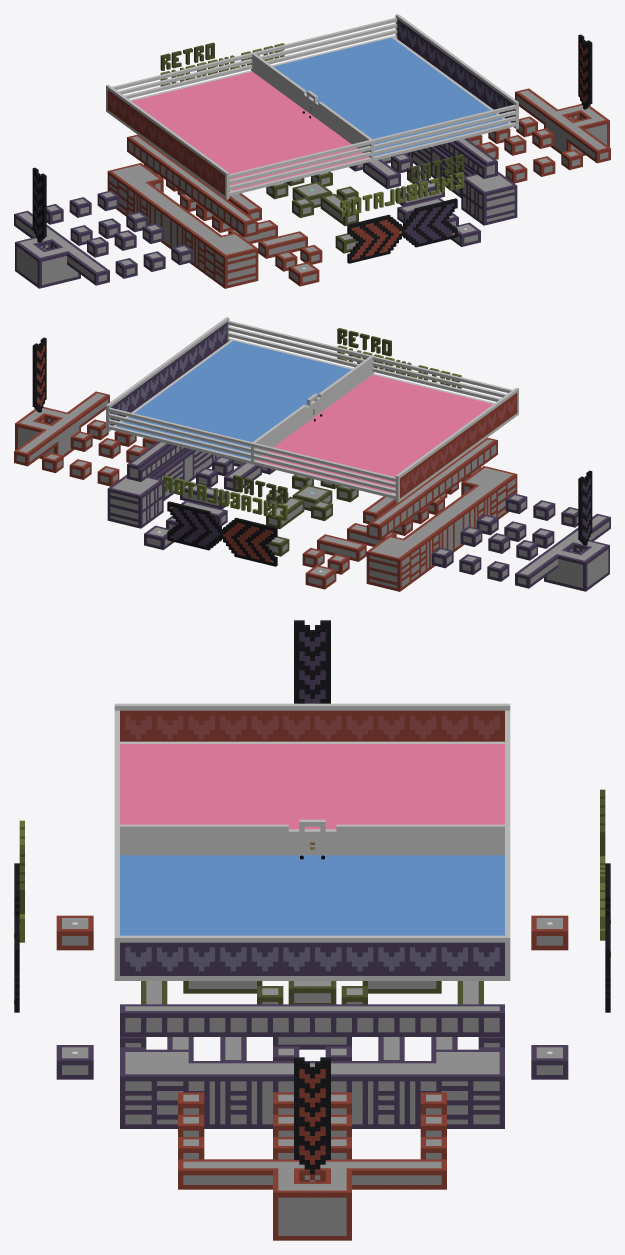
File: minecraft.obj
3 renders of one model, top to bottom at view 1: azimuth 30°, elevation 25°; view 2: azimuth 150°, elevation 25°; view 3: azimuth 270°, elevation 25°, orthographic. The views are drawn at different scales.
Size of the model in its own units: 205 by 40 by 113.
